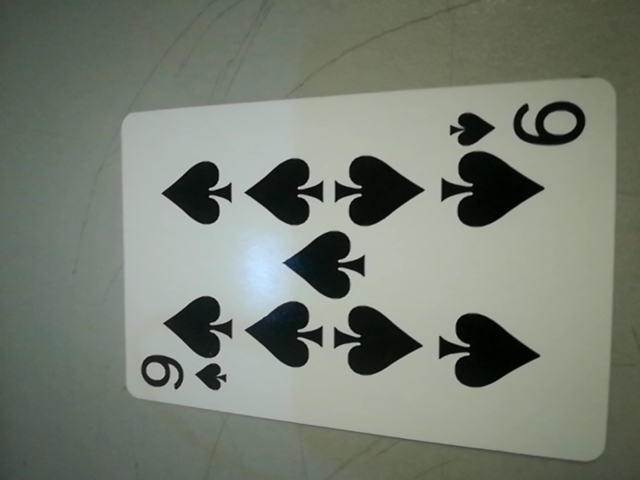ht 9: (449, 92, 604, 155)
